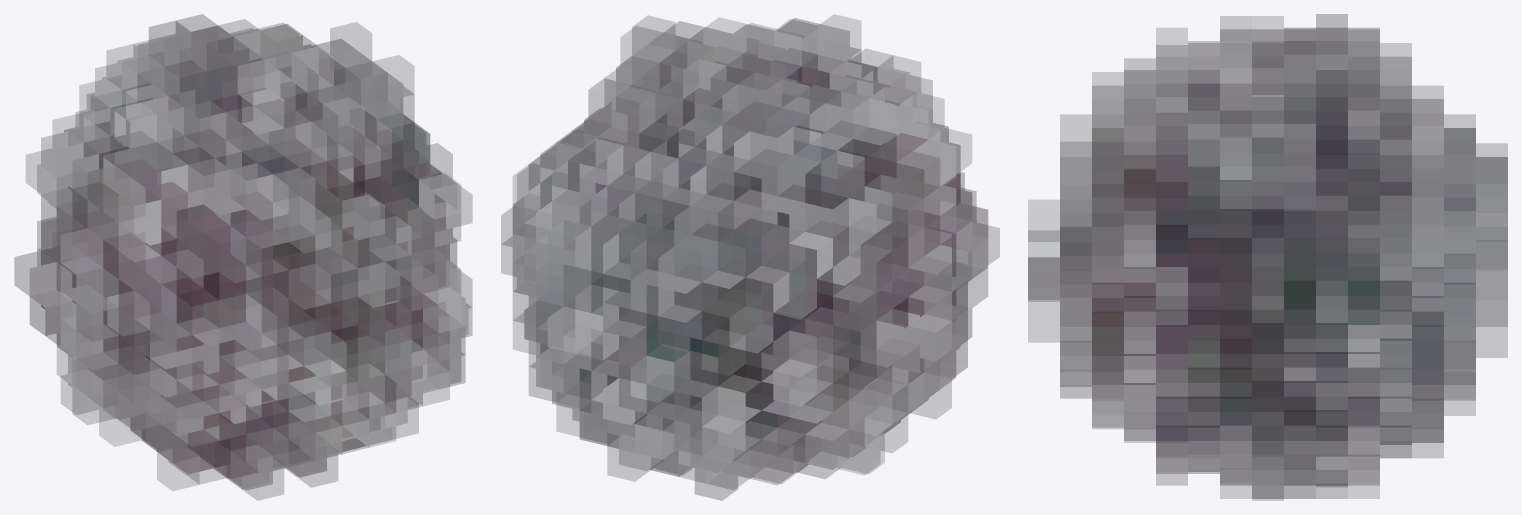
Rendered from iter_20.obj.
3 renders of one model, left to right at view 1: azimuth 30°, elevation 25°; view 2: azimuth 150°, elevation 25°; view 3: azimuth 270°, elevation 25°, orthographic. The views are drawn at different scales.
Visible parts, largest first — view 1: iter_20; view 2: iter_20; view 3: iter_20.
Part boxes in pixels (<box>): iter_20: <box>14,14,472,500</box>; iter_20: <box>501,14,999,500</box>; iter_20: <box>1028,14,1507,500</box>.
Bounding box in the file's own units: 1.4 × 1.4 × 1.5.
